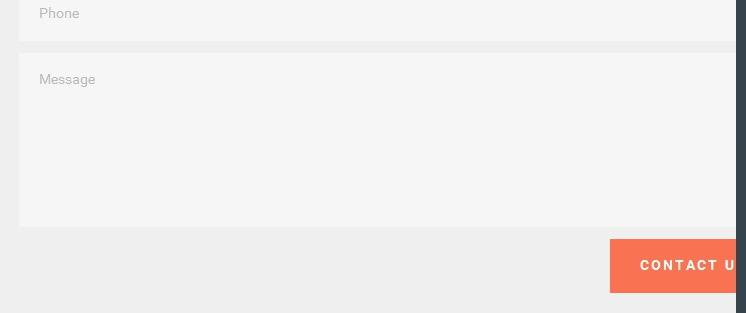button: (607, 236, 742, 296)
field: (16, 50, 739, 232)
